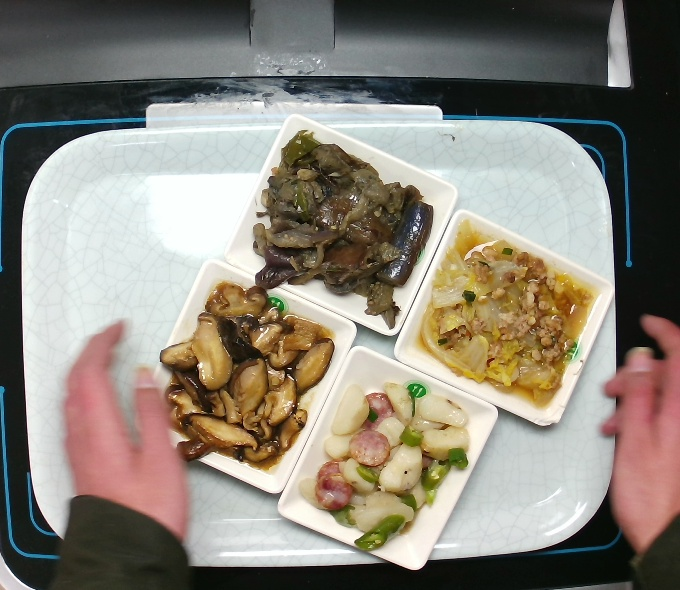wcq-MaTiGuo: (303, 376, 474, 544)
wcq-MoGu: (163, 280, 337, 466)
wcq-QieZi: (252, 128, 437, 332)
wcq-RouMoBaiCai: (414, 229, 594, 412)
